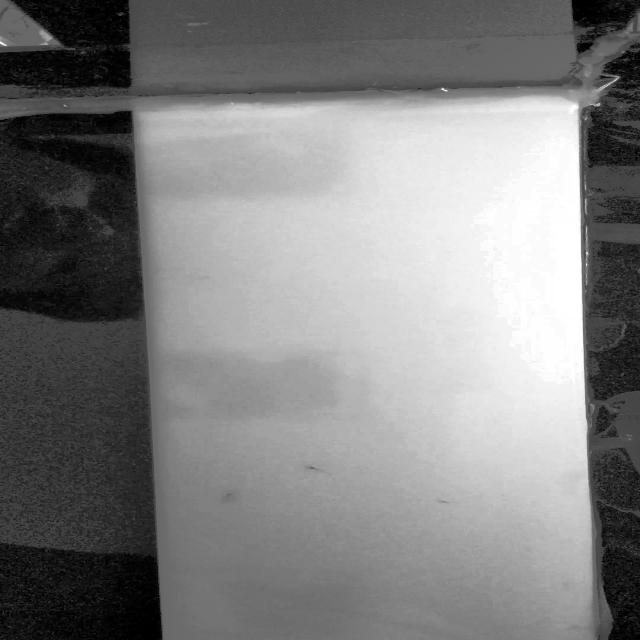shrimp: (294, 460, 335, 474), (214, 489, 249, 502), (429, 497, 462, 508)
